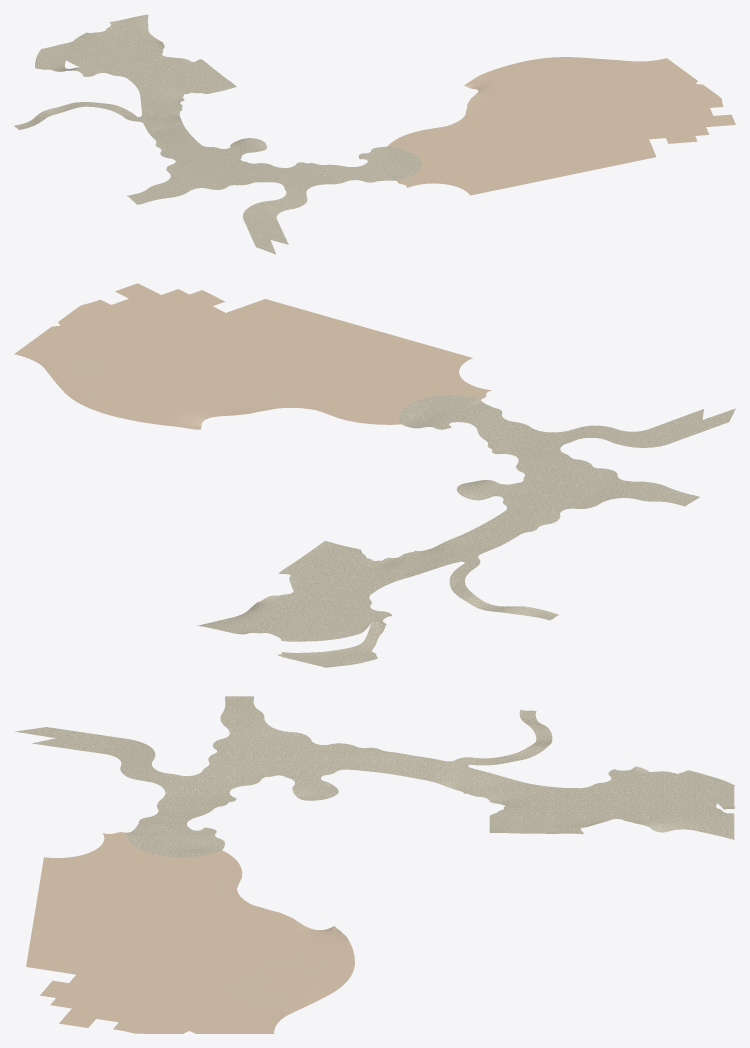
The model's file is entrancepathwrong.gltf.
3 renders of one model, top to bottom at view 1: azimuth 30°, elevation 25°; view 2: azimuth 150°, elevation 25°; view 3: azimuth 270°, elevation 25°, orthographic. The views are drawn at different scales.
Visible parts, largest first — view 1: node9.002; view 2: node9.002; view 3: node9.002.
Boxes of the visible parts, box(x1,y1,x2,y2) form: node9.002: box(14, 14, 735, 254); node9.002: box(14, 283, 735, 667); node9.002: box(15, 696, 735, 1033).
Size of the model in its own units: 529 by 18.17 by 479.
Materials: 1 (1 with a texture image).
